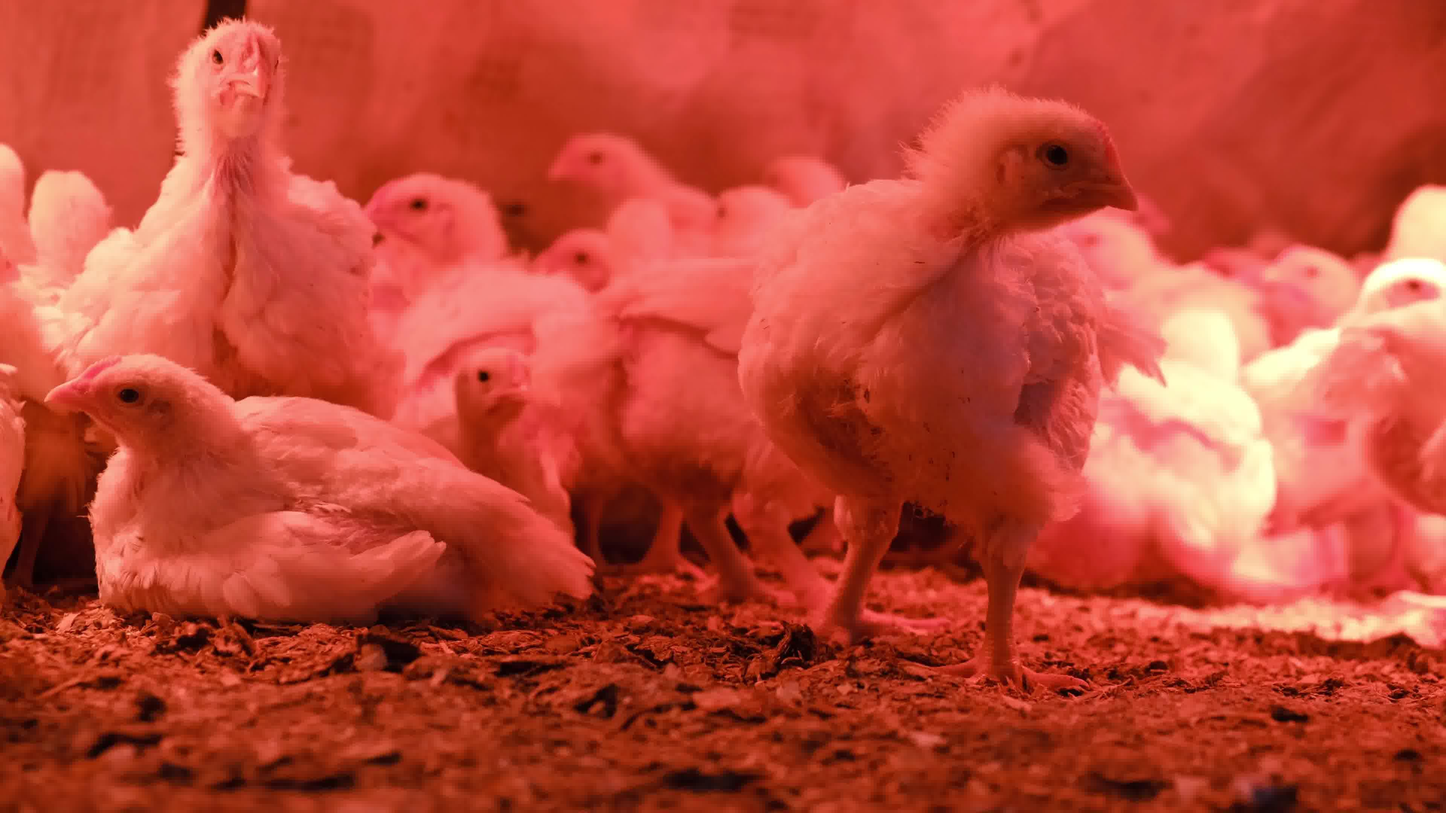AbNormal: (38, 354, 599, 608), (1084, 324, 1310, 600)
Normal: (744, 92, 1143, 661), (115, 8, 384, 344), (582, 230, 783, 589), (1337, 262, 1446, 585), (410, 329, 580, 482), (0, 120, 145, 297), (369, 160, 523, 273), (1258, 230, 1382, 312), (535, 119, 651, 196), (520, 211, 614, 288)
